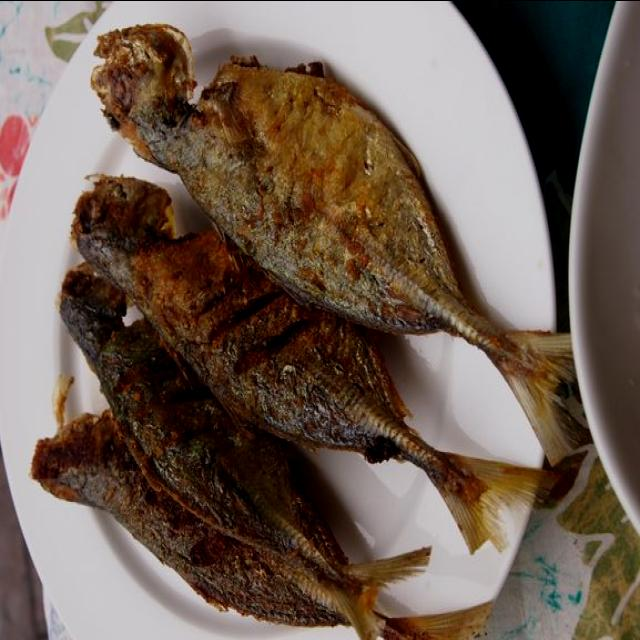ikan goreng: (93, 22, 588, 459), (72, 176, 544, 548), (60, 266, 378, 640)
